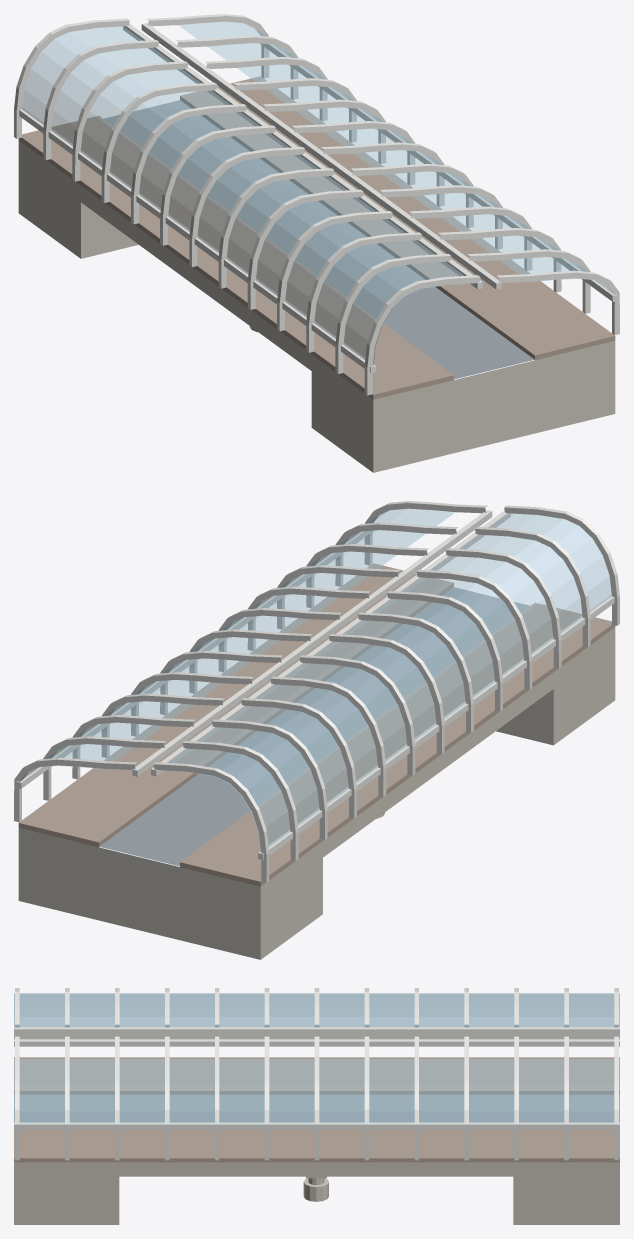
The model's file is clt-ctc-arena-station.glb.
The picture shows the model from 3 angles, top to bottom: view 1: azimuth 30°, elevation 25°; view 2: azimuth 150°, elevation 25°; view 3: azimuth 270°, elevation 25°; orthographic projection. The views are drawn at different scales.
Parts seen in each view (by area): view 1: CTC/Arena station; view 2: CTC/Arena station; view 3: CTC/Arena station.
Part boxes in pixels (bbox=[...]): CTC/Arena station: bbox=[14, 14, 619, 472]; CTC/Arena station: bbox=[14, 501, 619, 959]; CTC/Arena station: bbox=[14, 988, 619, 1224].
Bounding box in the file's own units: 21.5 × 14.45 × 52.3.
